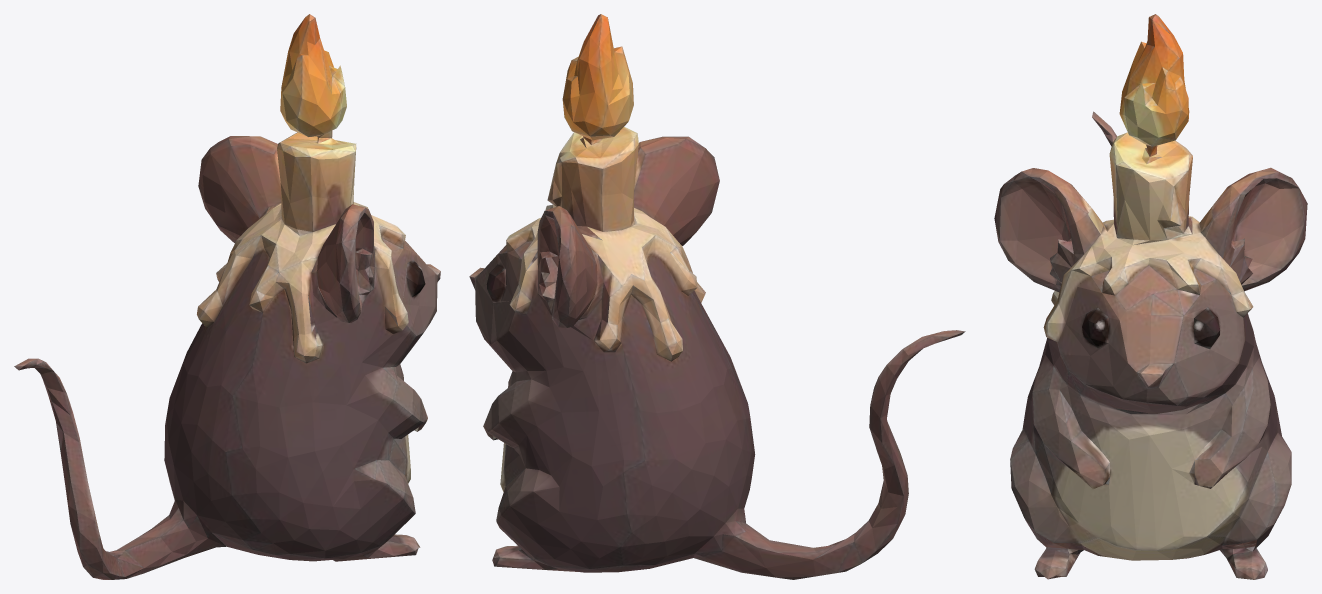
Rendered from foe_wickmouse.glb.
3 renders of one model, left to right at view 1: azimuth 30°, elevation 25°; view 2: azimuth 150°, elevation 25°; view 3: azimuth 270°, elevation 25°, orthographic. The views are drawn at different scales.
Parts seen in each view (by area): view 1: tripo_node_308cbd29-9920-48e5-94b8-0e28c60492f7.001; view 2: tripo_node_308cbd29-9920-48e5-94b8-0e28c60492f7.001; view 3: tripo_node_308cbd29-9920-48e5-94b8-0e28c60492f7.001.
Part boxes in pixels (x1,y1,x2,y2): tripo_node_308cbd29-9920-48e5-94b8-0e28c60492f7.001: (14,14,440,579); tripo_node_308cbd29-9920-48e5-94b8-0e28c60492f7.001: (469,14,965,579); tripo_node_308cbd29-9920-48e5-94b8-0e28c60492f7.001: (994,14,1307,579).
Size of the model in its own units: 0.9175 by 0.9955 by 0.5246.
1 material, 1 textured.
